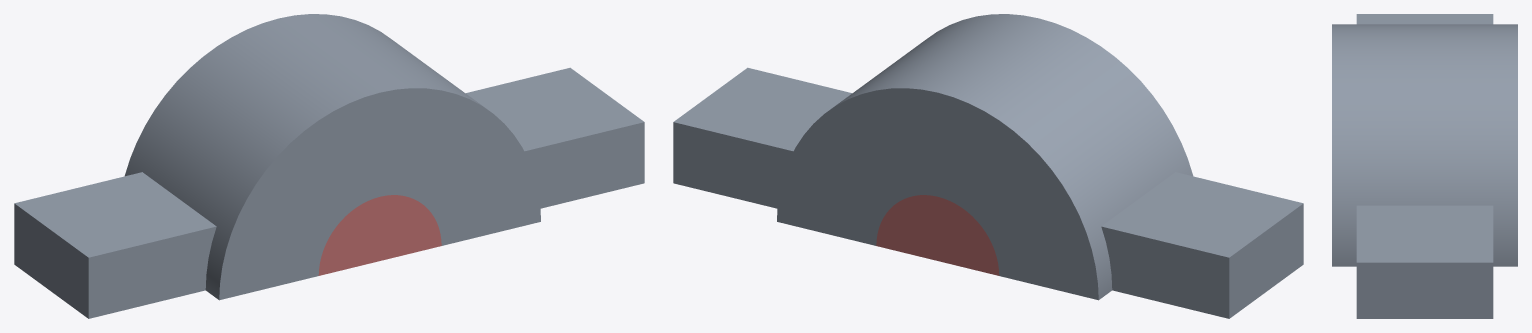
The model's file is step_08.glb.
The picture shows the model from 3 angles, left to right: view 1: azimuth 30°, elevation 25°; view 2: azimuth 150°, elevation 25°; view 3: azimuth 270°, elevation 25°; orthographic projection. The views are drawn at different scales.
Visible parts, largest first — view 1: part__housing cap, removed__housing cap; view 2: part__housing cap, removed__housing cap; view 3: part__housing cap.
Part boxes in pixels (box(x1,y1,x2,y2)): part__housing cap: box(14, 14, 644, 318); removed__housing cap: box(318, 195, 441, 275); part__housing cap: box(673, 14, 1303, 318); removed__housing cap: box(876, 195, 999, 275); part__housing cap: box(1332, 14, 1517, 318).
Bounding box in the file's own units: 190 × 55 × 60.
